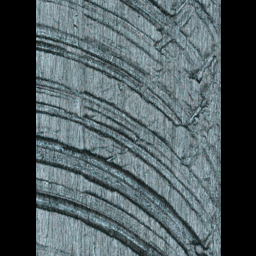d: (37, 0, 220, 253)
